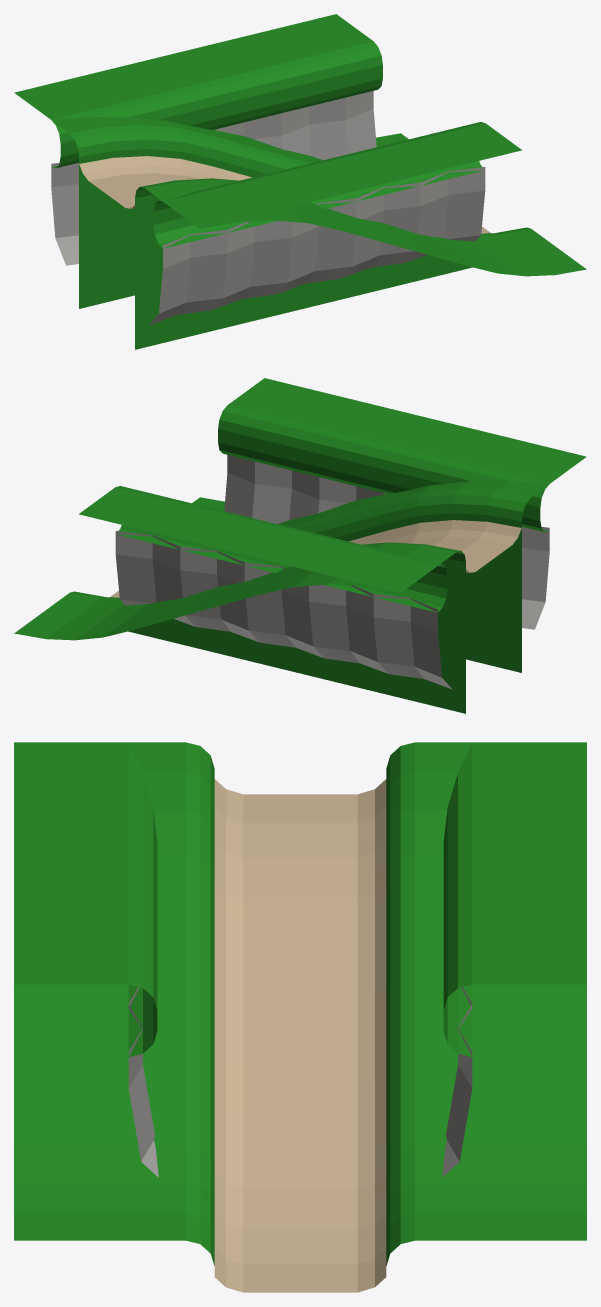
The model's file is Track_Cliff_Incline_Standard_2_Tall_Single.obj.
3 views of the same model, one above another, from view 1: azimuth 30°, elevation 25°; view 2: azimuth 150°, elevation 25°; view 3: azimuth 270°, elevation 25° (orthographic). The views are drawn at different scales.
Parts seen in each view (by area): view 1: Grass, Rock, Dirt; view 2: Grass, Rock, Dirt; view 3: Grass, Dirt, Rock.
Part boxes in pixels (x1,y1,x2,y2): Grass: [14, 14, 586, 349]; Rock: [51, 91, 485, 325]; Dirt: [79, 156, 490, 233]; Grass: [14, 378, 586, 713]; Rock: [115, 455, 549, 689]; Dirt: [110, 520, 521, 597]; Grass: [14, 742, 586, 1265]; Dirt: [214, 779, 386, 1292]; Rock: [128, 987, 472, 1177].
Size of the model in its own units: 6 by 2.5 by 5.
